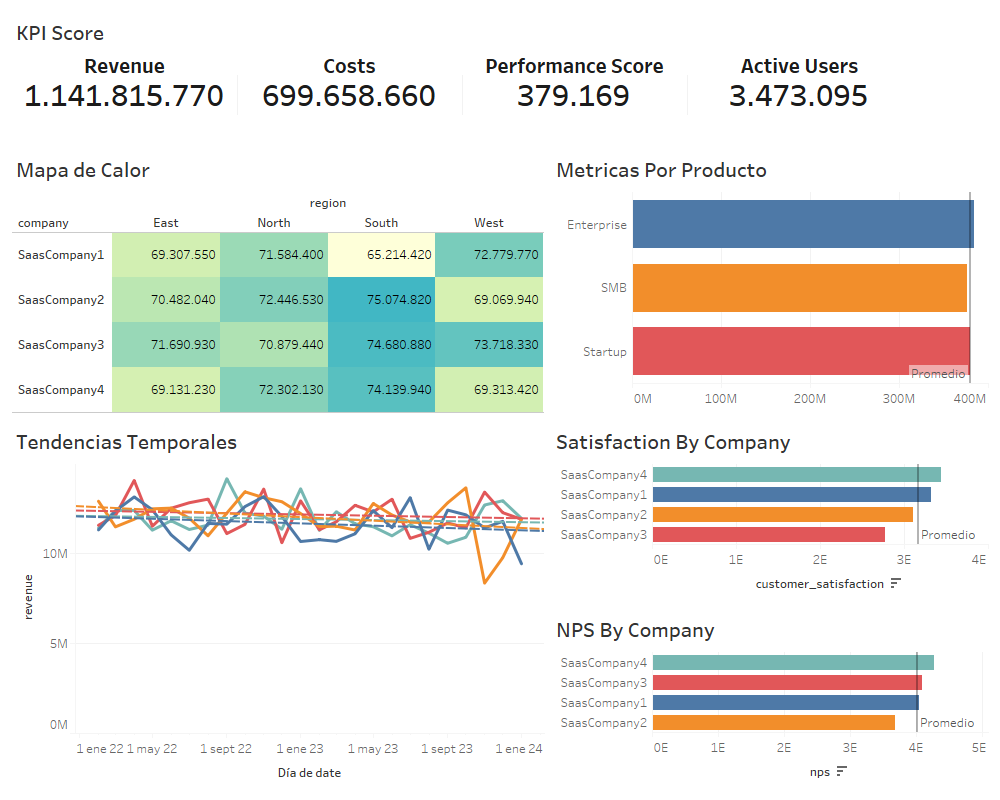

What the dashboard file says about the page in this screenshot:
{"tool":"tableau","page":{"name":"Dashboard 1","canvas":[1000,800],"ordinal":0},"visuals":[{"type":"worksheet","title":"KPI Score","mark":"Automatic","box":[8,8,984,137]},{"type":"worksheet","title":"Mapa de Calor","mark":"Square","rows":["company"],"cols":["region"],"box":[8,145,540,272]},{"type":"worksheet","title":"Metricas Por Producto","mark":"Automatic","rows":["product_category"],"cols":["revenue"],"box":[548,145,444,272]},{"type":"worksheet","title":"Tendencias Temporales","mark":"Automatic","rows":["revenue"],"cols":["date"],"box":[8,417,540,375]},{"type":"worksheet","title":"Satisfaction","mark":"Automatic","rows":["company"],"cols":["customer_satisfaction"],"box":[548,417,444,187.5]},{"type":"worksheet","title":"NPS","mark":"Automatic","rows":["company"],"cols":["nps"],"box":[548,604.5,444,187.5]}]}

Visuals, with their boxes in screenshot pixels (x1, y1, x2, y2), scaled from the page's 1000x800 canvas onto the 1000x800 screenshot:
"KPI Score" worksheet: locate(8, 8, 992, 145)
"Mapa de Calor" worksheet (Square marks): locate(8, 145, 548, 417)
"Metricas Por Producto" worksheet: locate(548, 145, 992, 417)
"Tendencias Temporales" worksheet: locate(8, 417, 548, 792)
"Satisfaction" worksheet: locate(548, 417, 992, 604)
"NPS" worksheet: locate(548, 604, 992, 792)
